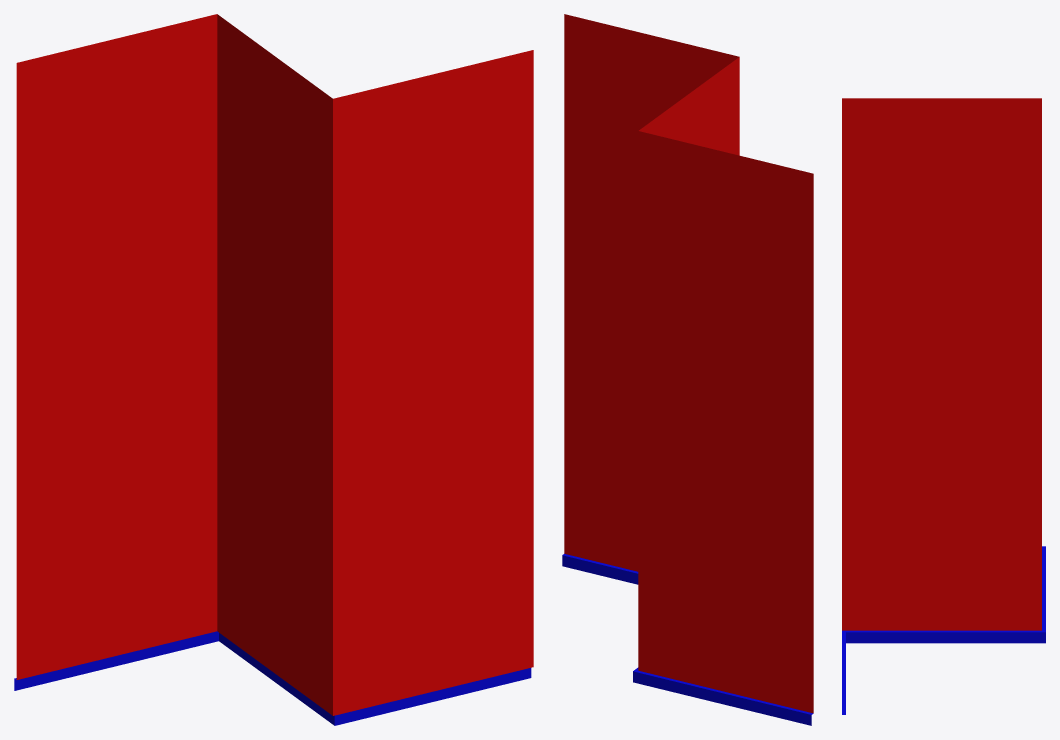
The model's file is DoubleCornerHighWall.fbx.
3 renders of one model, left to right at view 1: azimuth 30°, elevation 25°; view 2: azimuth 150°, elevation 25°; view 3: azimuth 270°, elevation 25°, orthographic. The views are drawn at different scales.
Visible parts, largest first — view 1: Plane.100; view 2: Plane.100; view 3: Plane.100.
Boxes of the visible parts, box(x1,y1,x2,y2) form: Plane.100: box(14, 14, 533, 725); Plane.100: box(562, 14, 813, 725); Plane.100: box(842, 98, 1045, 714).
Size of the model in its own units: 2 by 3 by 1.02.
